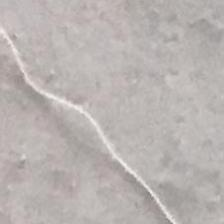Non_Crack: (64, 8, 204, 90)
